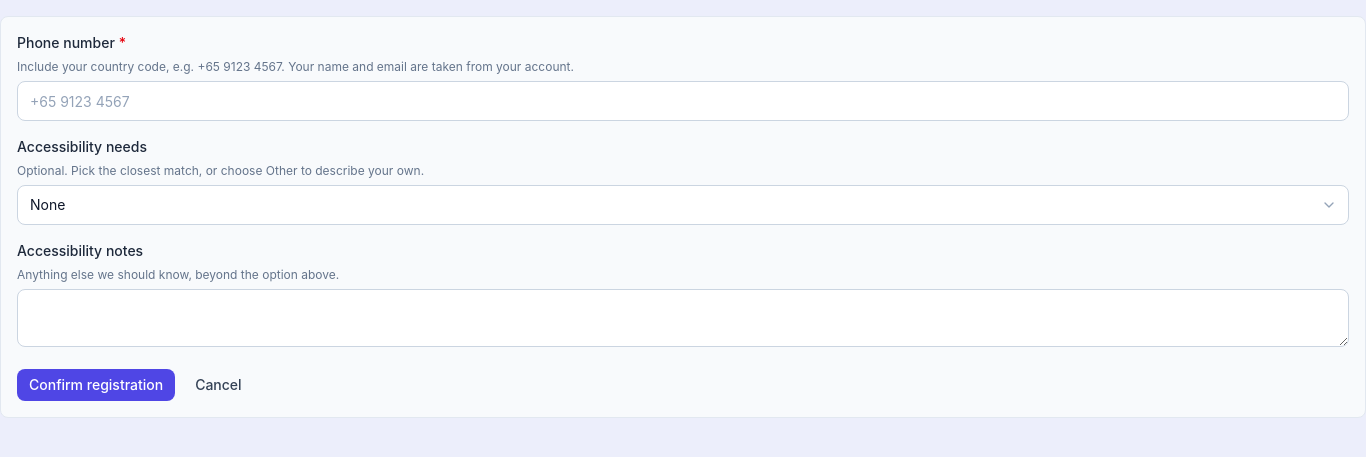
Test case: US-33 AC-2, AC-3, AC-7: the registration form › flags an invalid phone number at its field, and registers nothing
Type "12" into the field labelled "Phone number*".
click(683, 101); type("12")  # box [17,81,1349,121]
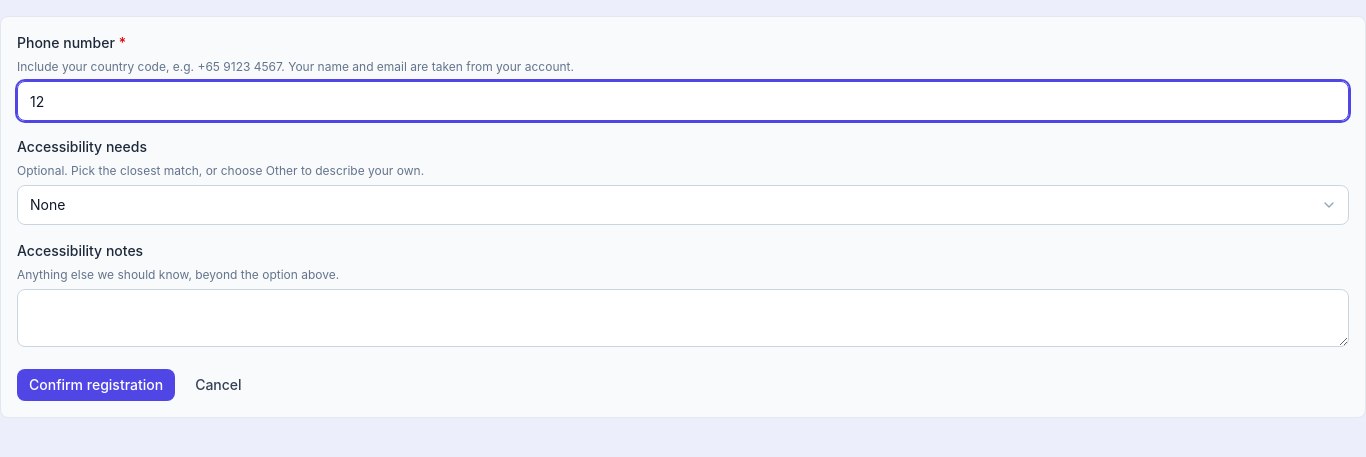
Click the button "Confirm registration".
click(96, 385)  # box [17,369,175,401]
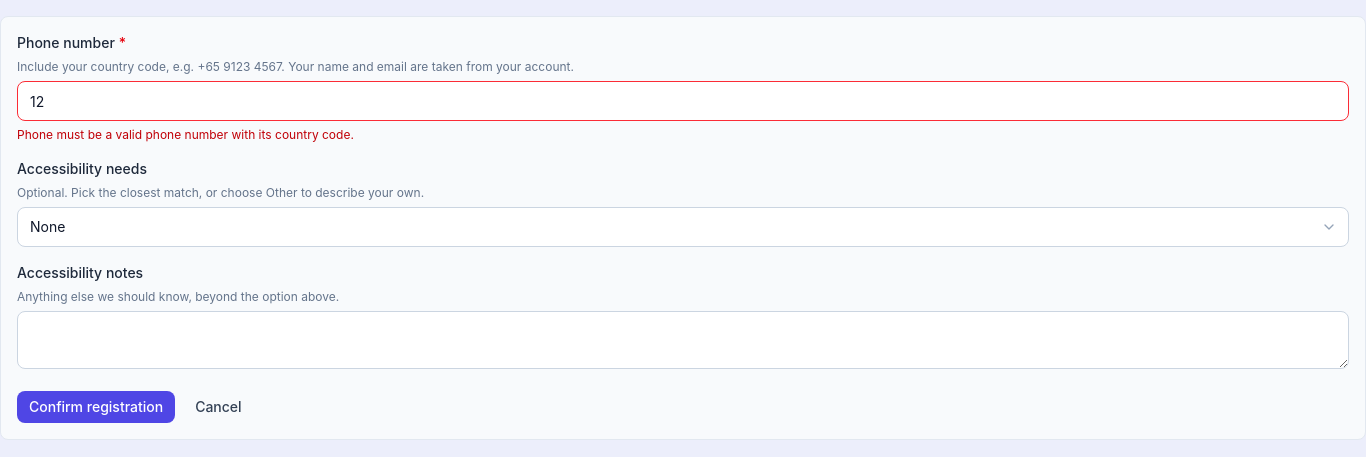
Result: the list item "Phone must be a valid phone number with its country code." is shown at [17,127,354,142]
